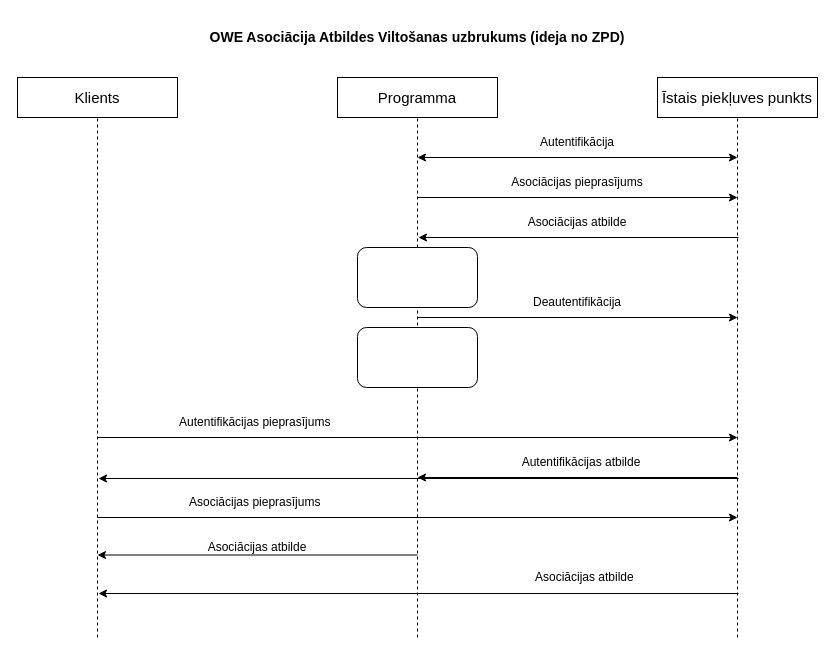
This 835x656 diagram has some shape labels left out. The shapes that lost their labels are listed below. From the top down, each one's centre as x and y in pixels, then its label:
At (417,277): "Saglabā asociācijas atbildi".
At (417,357): "Sāk noklausīšanos".
